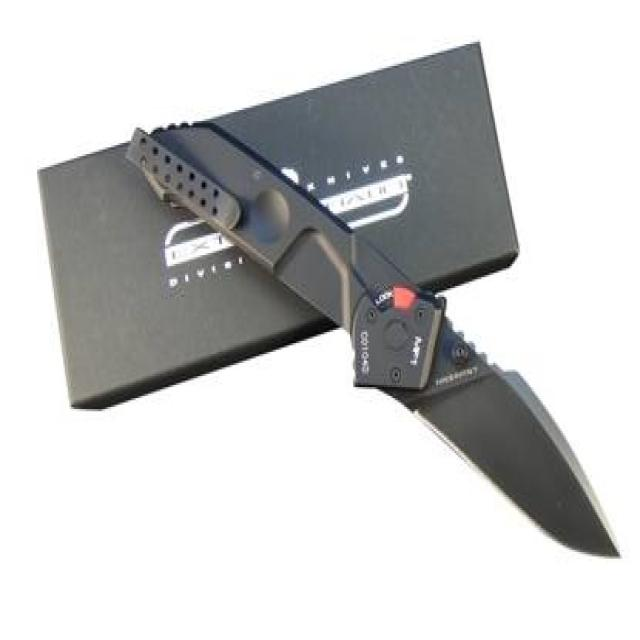knife: (129, 104, 627, 570)
